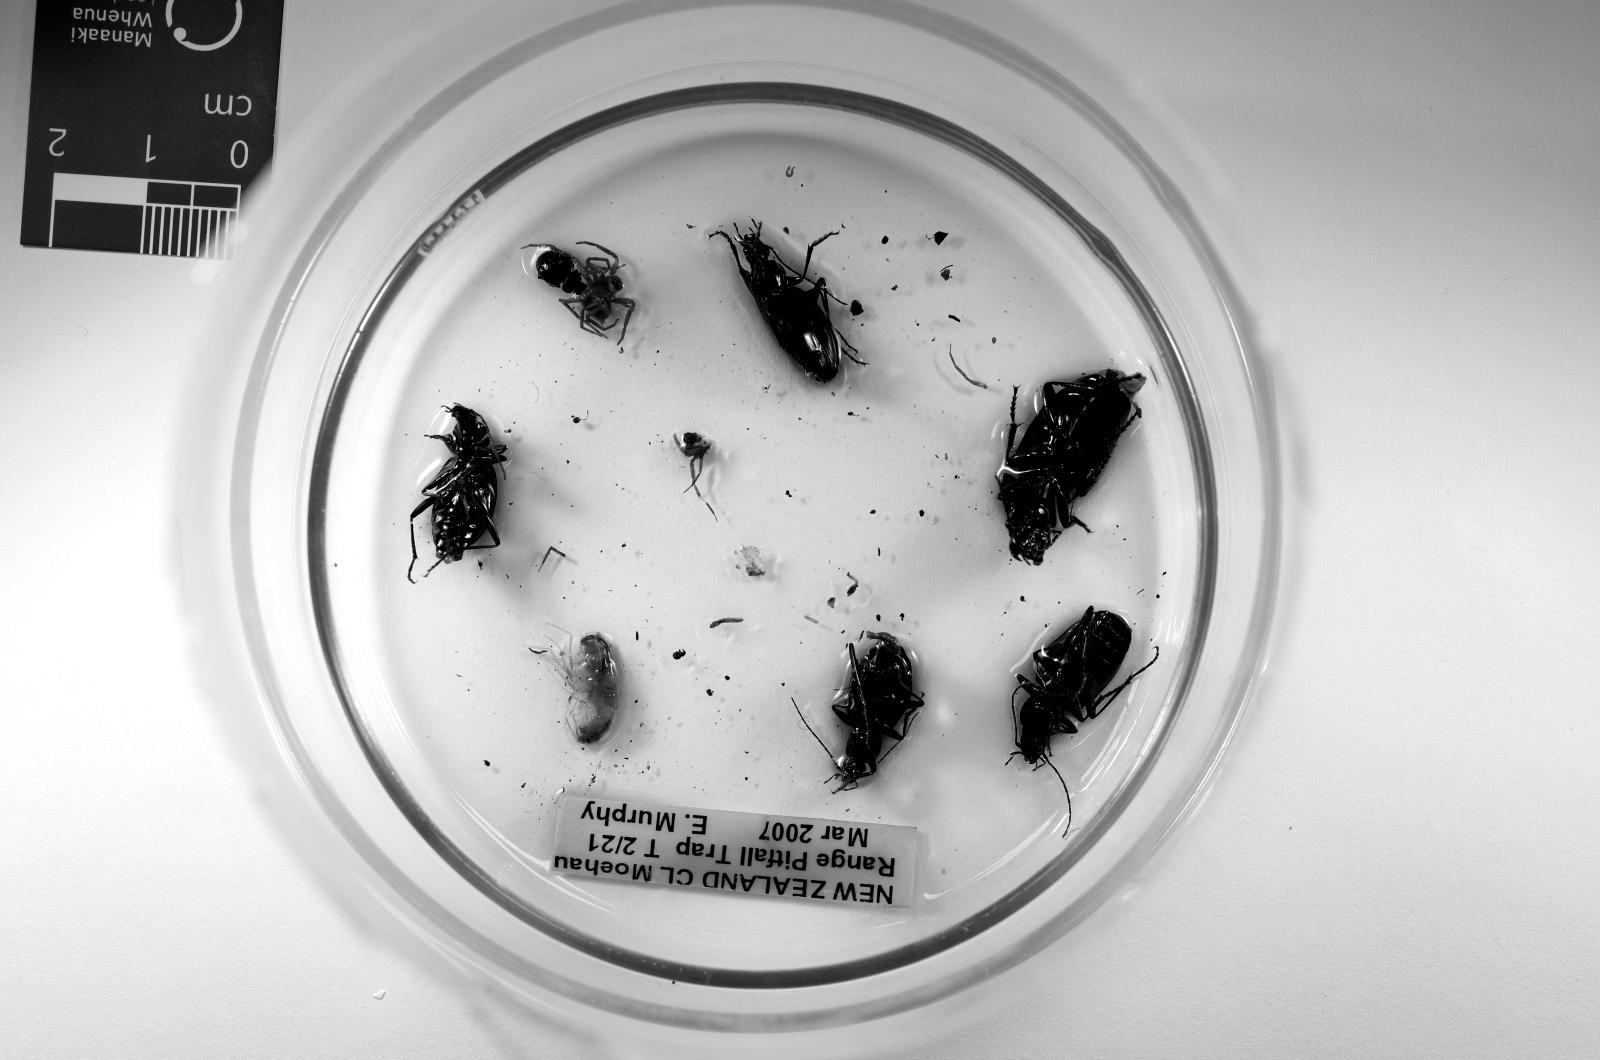amphipoda: (531, 634, 618, 745)
araneae: (563, 240, 634, 338)
carabidae: (997, 369, 1144, 565), (710, 220, 841, 382), (1010, 606, 1141, 767), (407, 403, 506, 584), (831, 634, 925, 791)
coleoptera: (535, 248, 588, 295)
opiliones: (675, 432, 713, 500)
